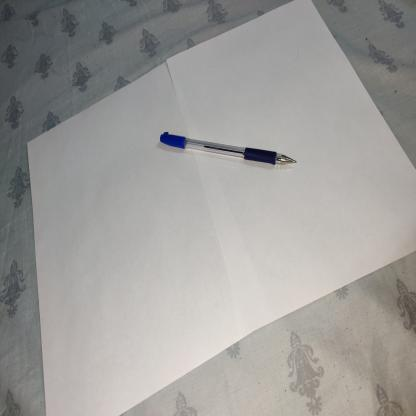Pen: (158, 131, 307, 205)
